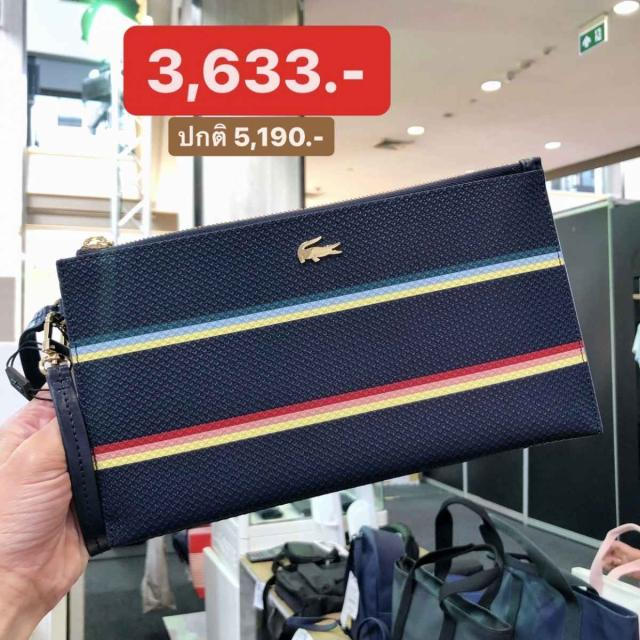Handbag: (53, 153, 606, 559)
